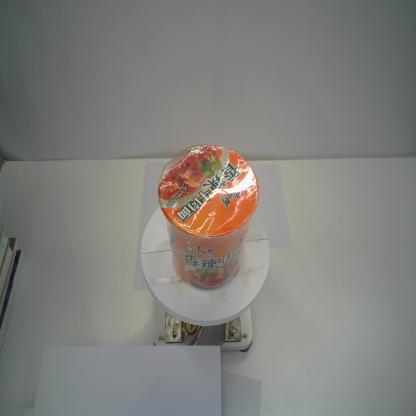Instant Noodles: (158, 142, 259, 291)
